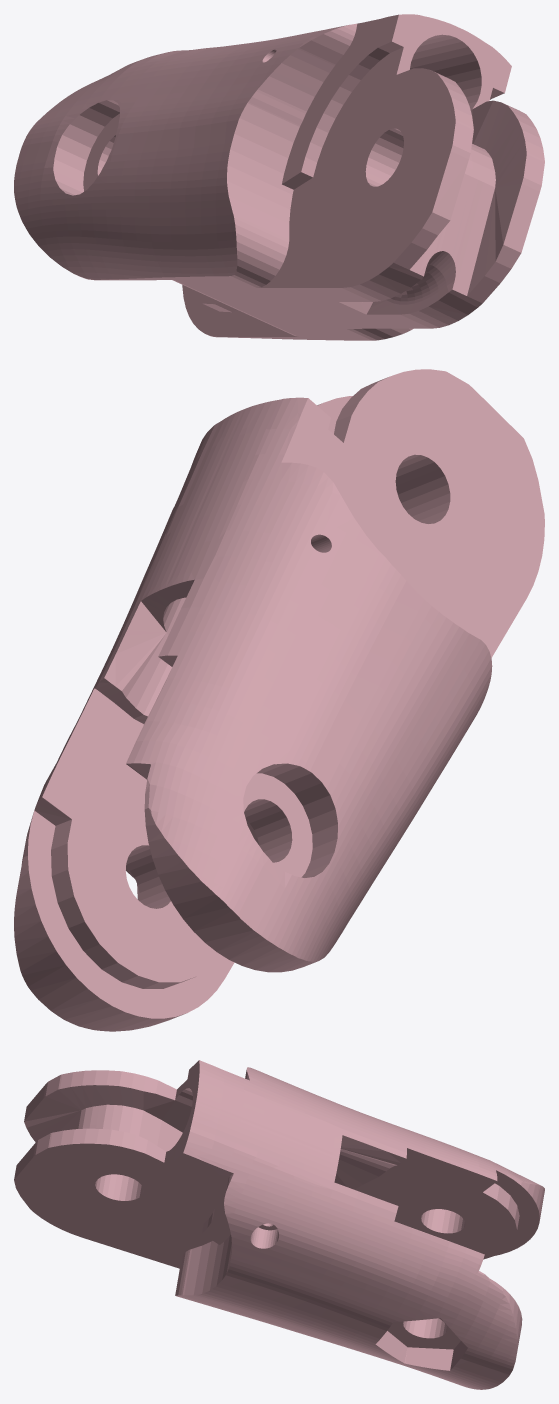
File: i02_leftHand_ringFingerMid_visual.obj
3 renders of one model, top to bottom at view 1: azimuth 30°, elevation 25°; view 2: azimuth 150°, elevation 25°; view 3: azimuth 270°, elevation 25°, orthographic. The views are drawn at different scales.
Parts seen in each view (by area): view 1: i02_leftHand_ringFingerMid_visual.001; view 2: i02_leftHand_ringFingerMid_visual.001; view 3: i02_leftHand_ringFingerMid_visual.001.
Boxes of the visible parts, x1,y1,x2,y2 form: i02_leftHand_ringFingerMid_visual.001: (14,14,544,340); i02_leftHand_ringFingerMid_visual.001: (14,369,544,1031); i02_leftHand_ringFingerMid_visual.001: (14,1060,544,1389).
Bounding box in the file's own units: 0.1927 × 0.2688 × 0.3907.
